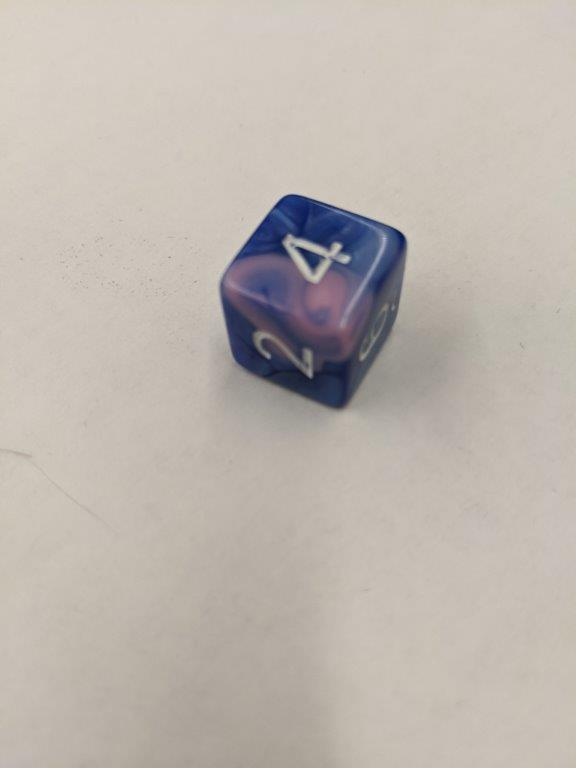d6-4: (218, 193, 407, 409)
